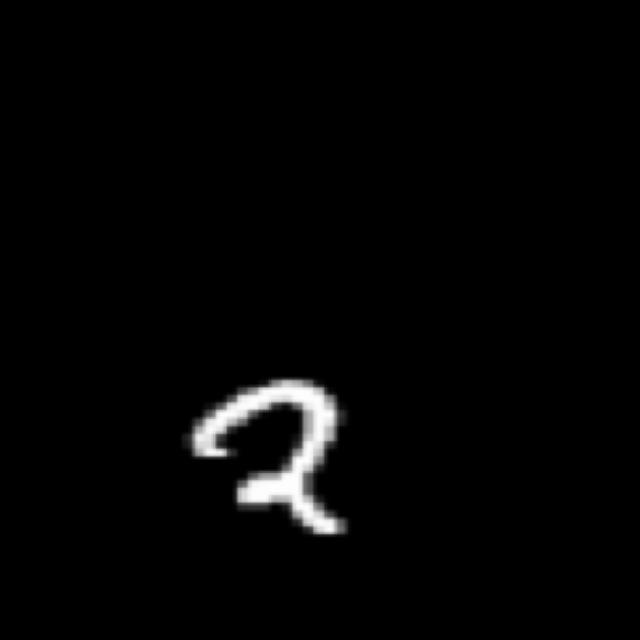two -2-: (172, 368, 354, 540)
